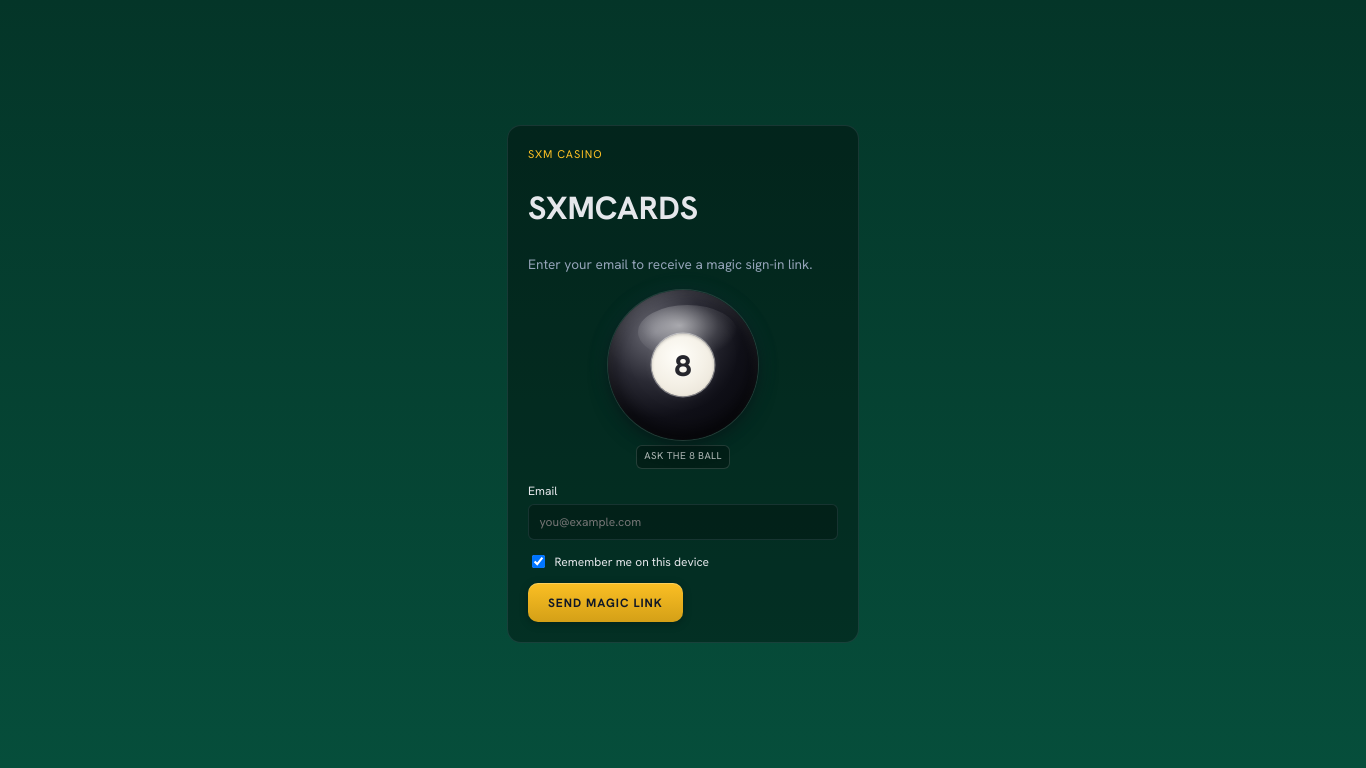
Test: LoginScreen › success state hides email input and shows done option
The image size is (1366, 768).
Step 1. Type "player@example.com" into the field labelled "Email" → (683, 522), box top-left (528, 504), bottom-right (838, 540)
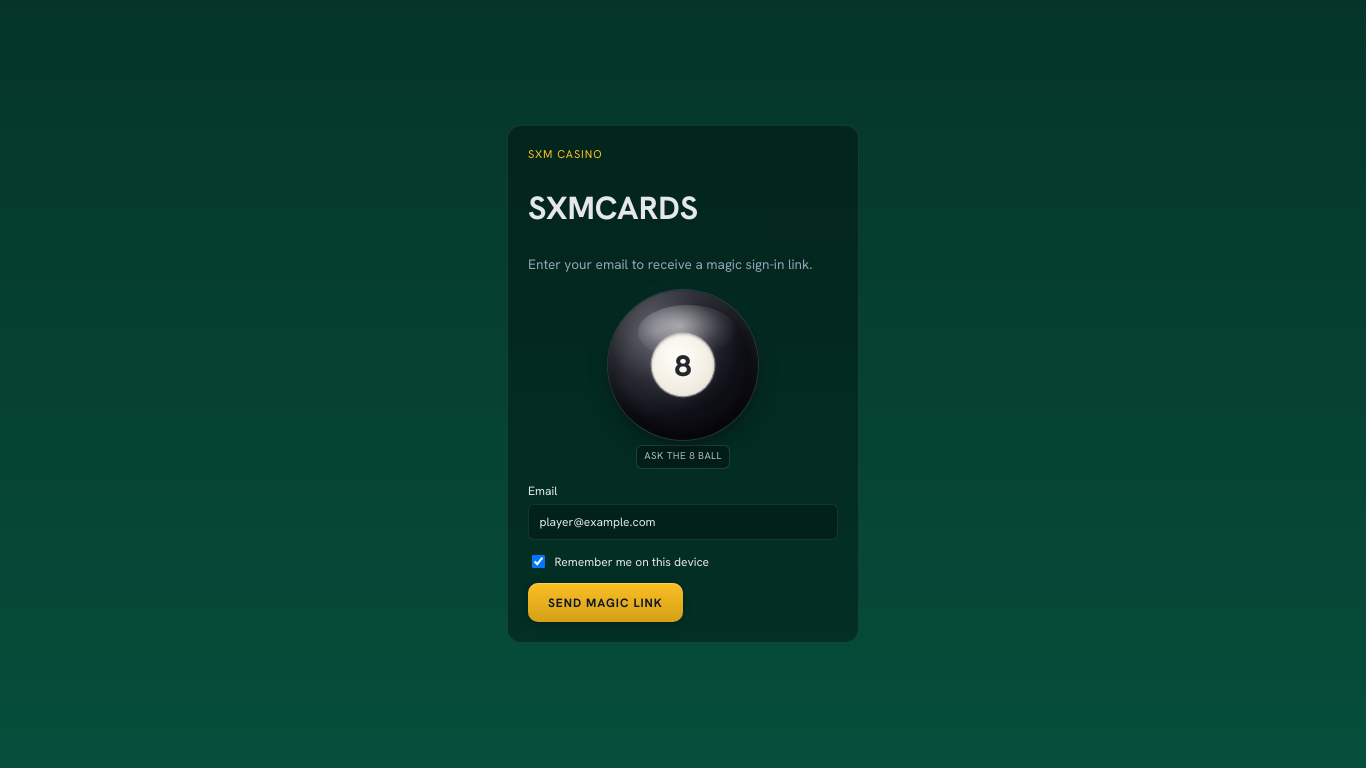
Step 2. Click the button "Send magic link" → (605, 603), box top-left (528, 583), bottom-right (683, 622)
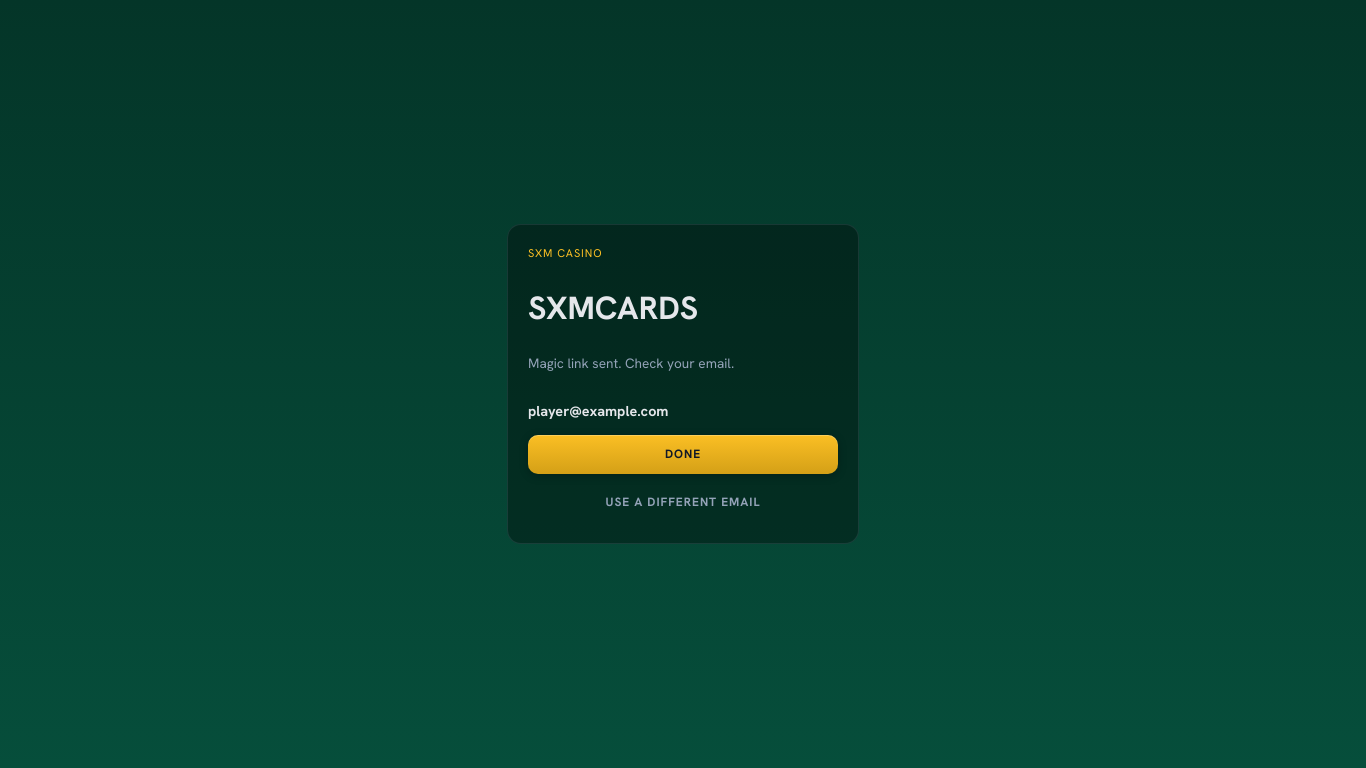
Expected: the text "player@example.com" is shown, top-left (528, 402), bottom-right (668, 420)
Expected: the button "Done" is shown, top-left (528, 435), bottom-right (838, 474)
Expected: the element that starts with "Magic link sent. Check your email." is shown, top-left (528, 353), bottom-right (838, 523)
